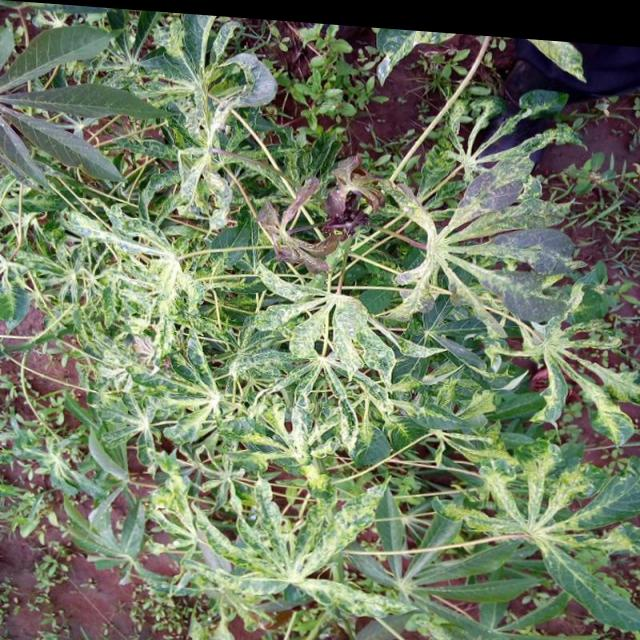Mosaico: (124, 473, 382, 599), (417, 178, 606, 348), (147, 363, 390, 489), (429, 454, 640, 568), (247, 269, 458, 379), (503, 292, 634, 452), (12, 205, 196, 305), (164, 58, 247, 223)
